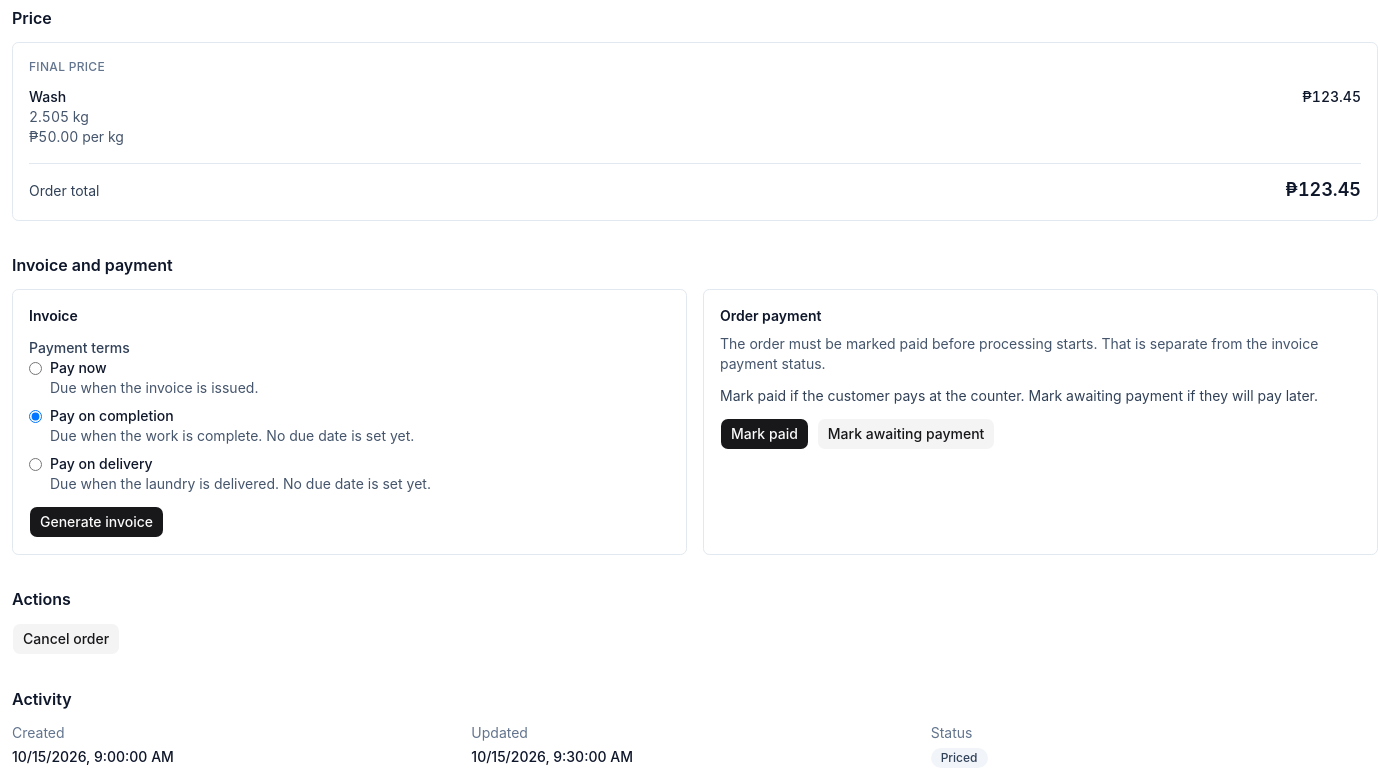
Test: order page invoice and payment (#166) › generate › case 5: when another user generated first, the refetch shows their invoice and no stale alert
(page scrolled)
Check: the element with id "laundry-order-invoice" is shown, box [12,253,1377,555]
Click the button "Generate invoice": (96, 522) [29,506,164,538]
(page scrolled)
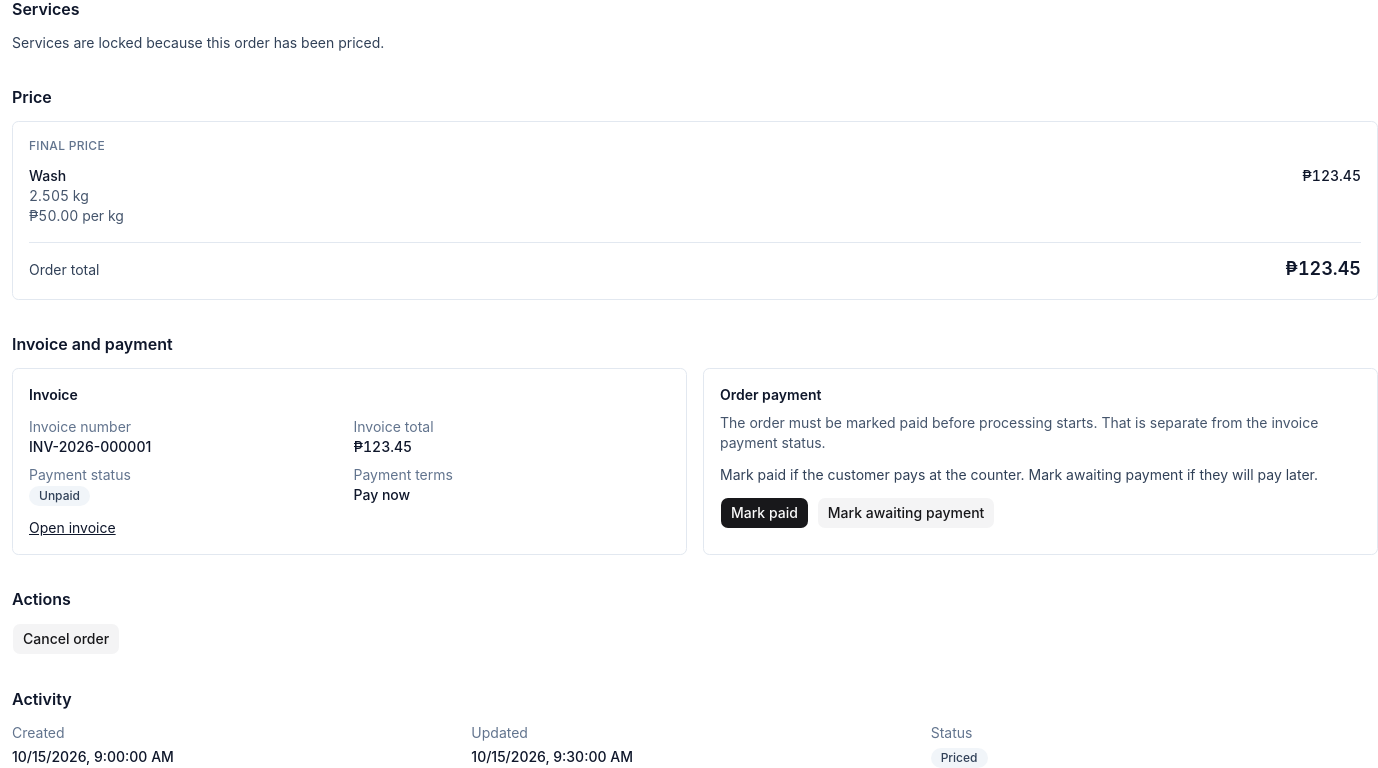
Check: the element with id "laundry-order-invoice" is shown, box [12,332,1377,555]
Check: the element with id "laundry-order-invoice" shows "INV-2026-000001", box [29,438,151,455]
Check: the link to "/app/billing?detail=i1" is shown, box [29,519,116,536]
